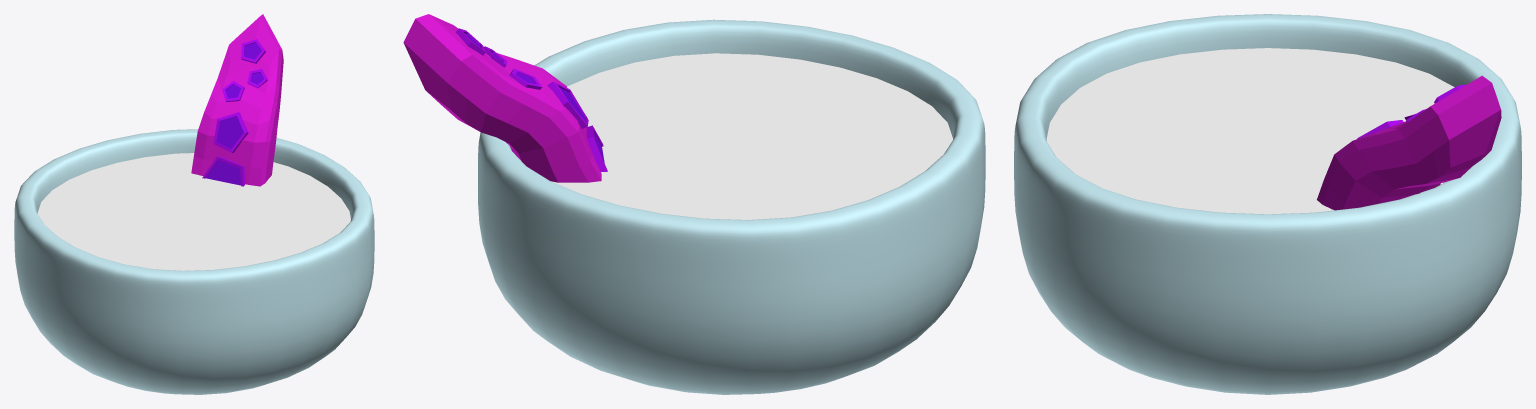
The model's file is Tentacle.glb.
3 renders of one model, left to right at view 1: azimuth 30°, elevation 25°; view 2: azimuth 150°, elevation 25°; view 3: azimuth 270°, elevation 25°, orthographic. The views are drawn at different scales.
Parts seen in each view (by area): view 1: Cube, Plane, Cube.001; view 2: Cube, Plane, Cube.001; view 3: Cube, Plane, Cube.001.
Boxes of the visible parts, box(x1,y1,x2,y2) form: Cube: box(14, 129, 374, 394); Plane: box(37, 153, 350, 270); Cube.001: box(191, 14, 283, 186); Cube: box(478, 19, 985, 394); Plane: box(551, 53, 952, 219); Cube.001: box(403, 14, 607, 182); Cube: box(1014, 14, 1521, 394); Plane: box(1046, 48, 1454, 214); Cube.001: box(1317, 75, 1501, 210).
Bounding box in the file's own units: 1.83 × 1.49 × 1.83.
